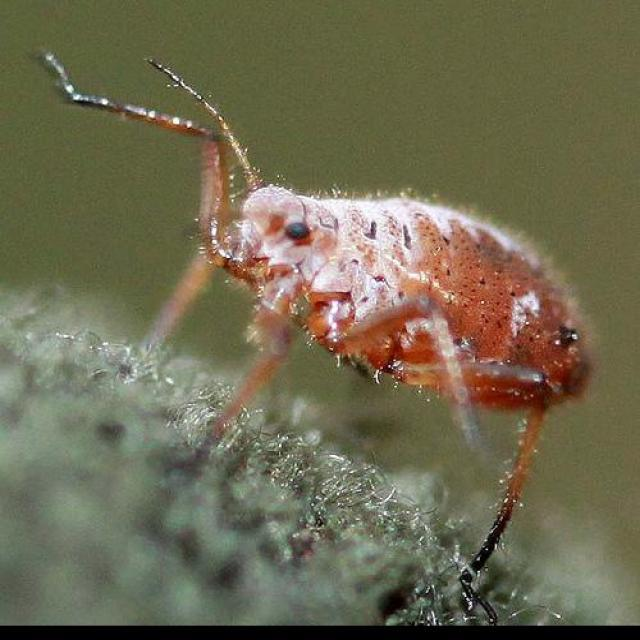aphid: (16, 23, 610, 584)
